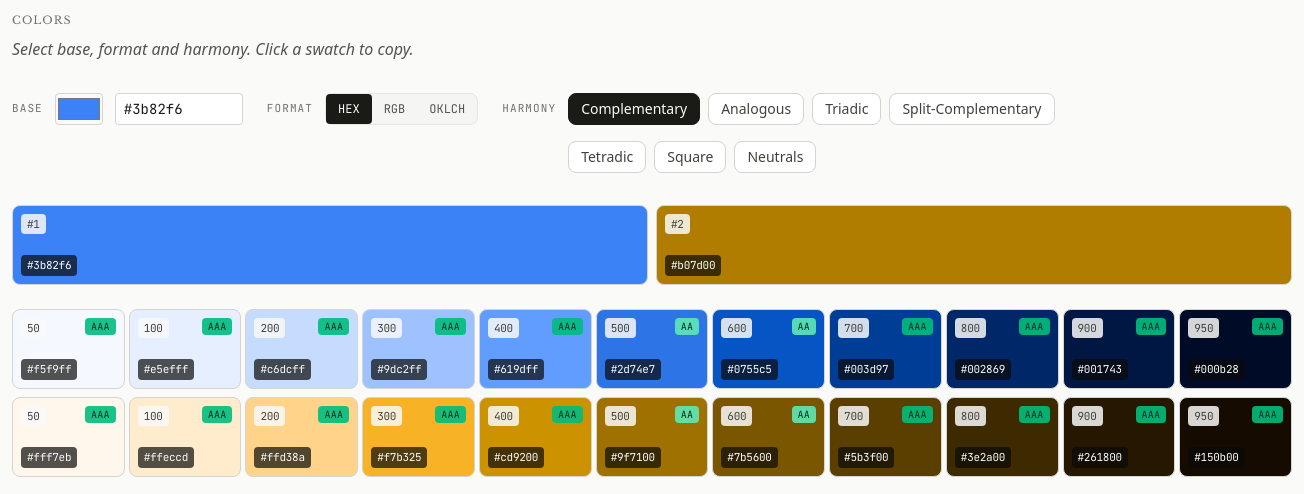
ColorsSection › should copy formatted text and surface transient feedback on swatch click
Replace the text in the field named "Base color hex" with "#ff0000" at (179, 108), box [115, 92, 243, 124]
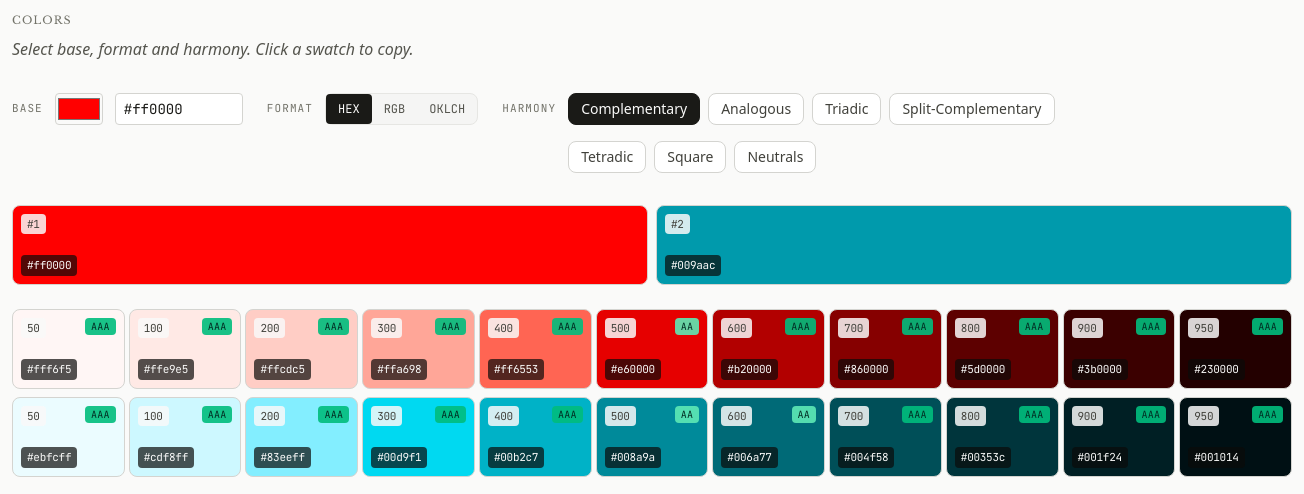
Result: the button with aria-label "Copy #1 #ff0000" is shown
Click the button with aria-label "Copy #1 #ff0000" at (49, 265), box [12, 204, 648, 284]
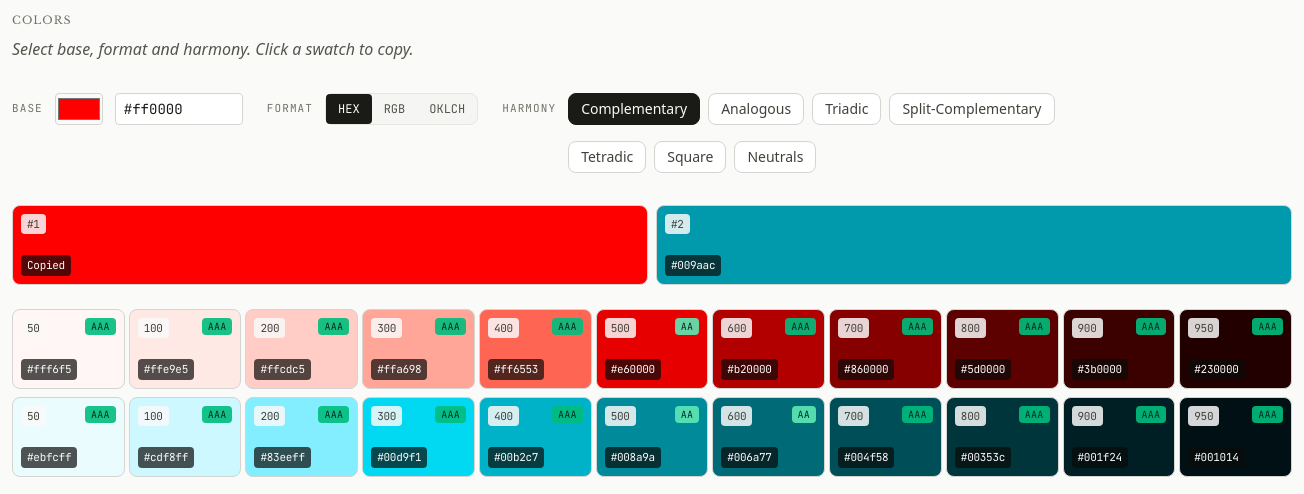
Result: the button with aria-label "Copy #1 #ff0000" shows "Copied" at [12, 204, 648, 284]
